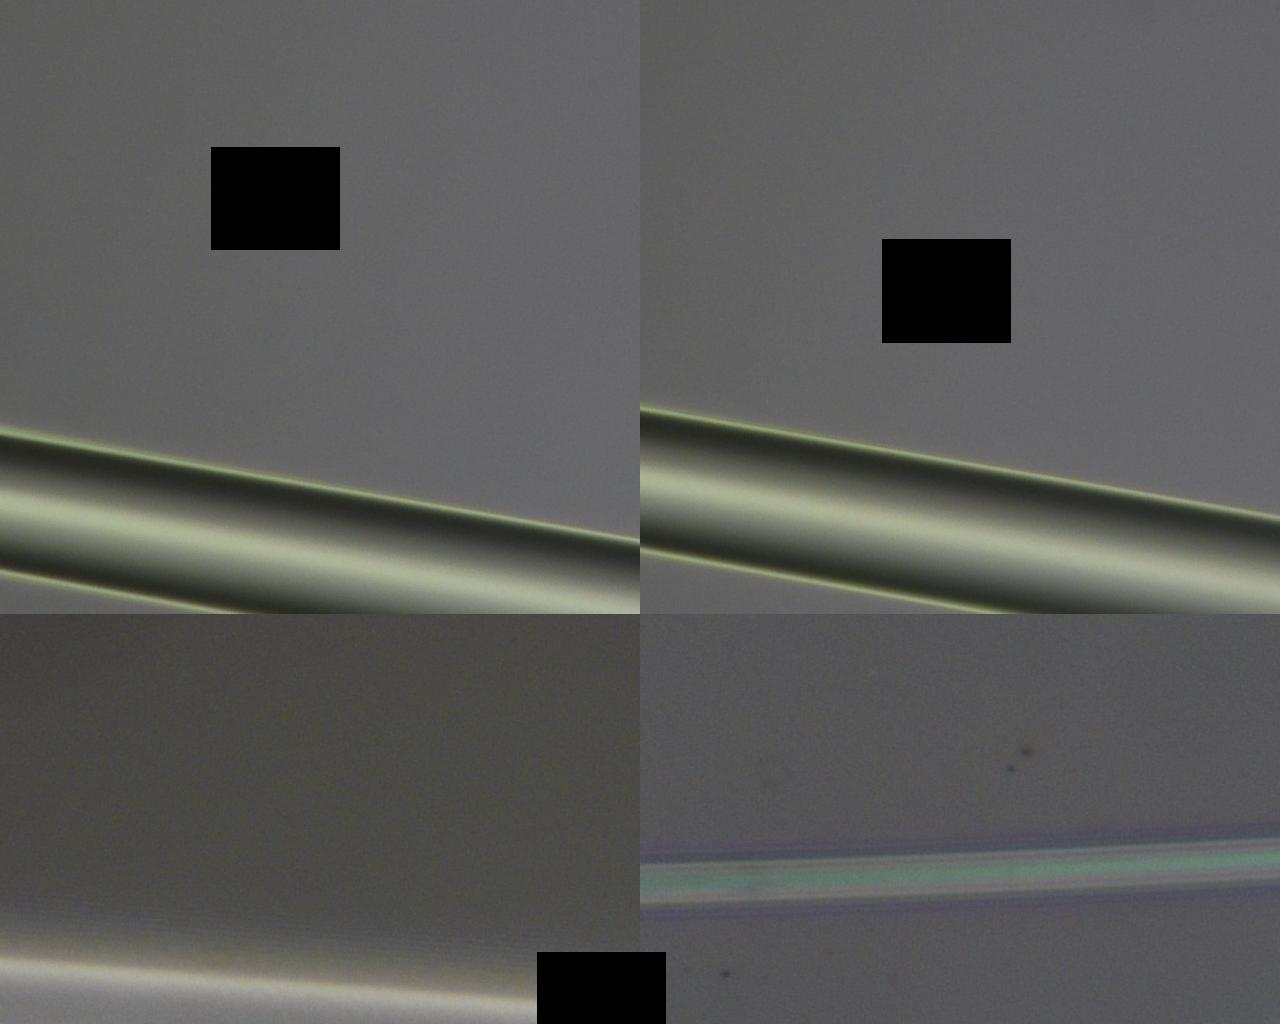fiber: (523, 0, 958, 471), (332, 471, 521, 1024), (523, 471, 631, 1024), (437, 0, 523, 471)
